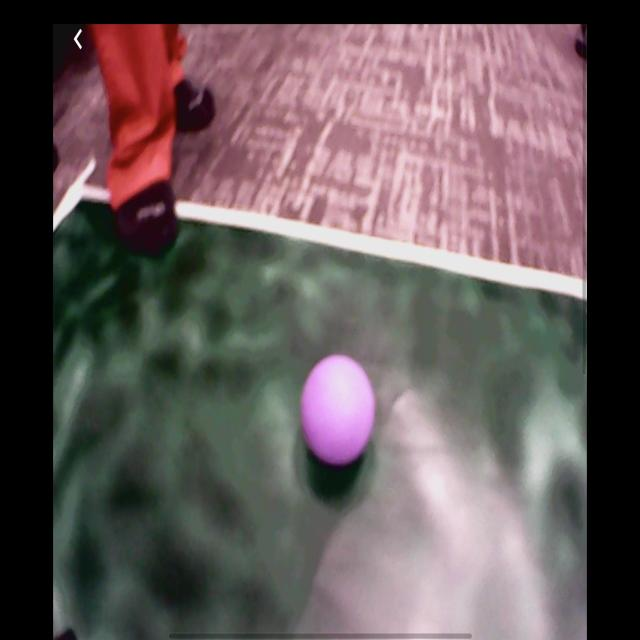ball: (300, 353, 376, 466)
